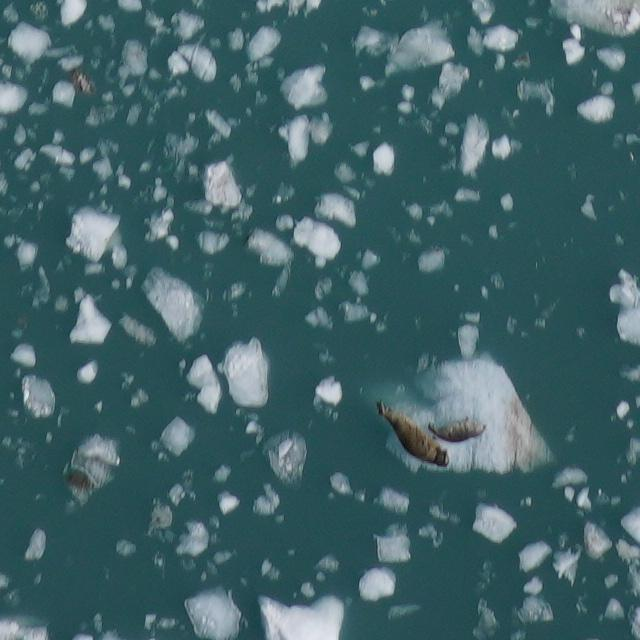seal: (364, 391, 455, 478), (427, 413, 487, 446)
